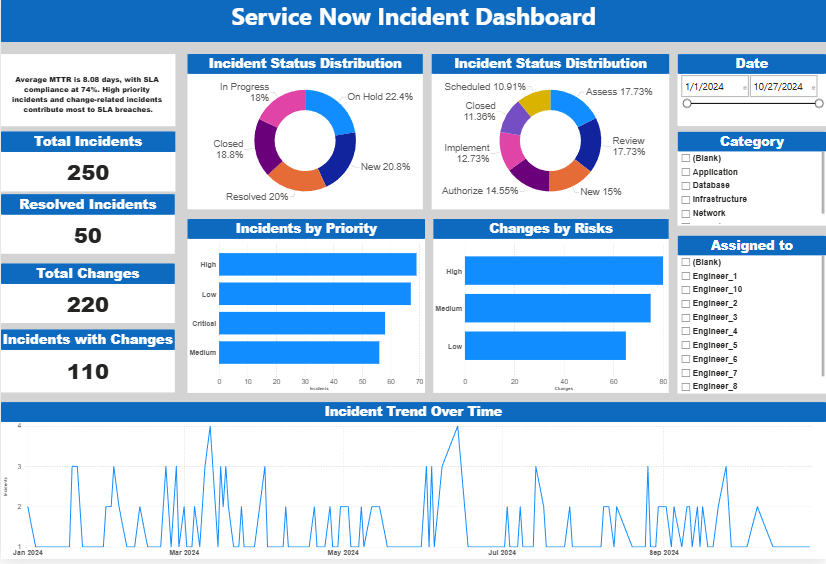

What the dashboard file says about the page in this screenshot:
{"tool":"powerbi","page":{"name":"Overview (ITSM Analytics)","canvas":[2500,1700],"ordinal":1},"visuals":[{"type":"card","title":"Total Incidents","fields":{"Values":["CountNonNull(servicenow_incidents_250rows.Incident_Number)"]},"box":[0,404.8,528.6,181],"z":0},{"type":"textbox","box":[0,0,2501.3,133.4],"z":1000},{"type":"card","title":"Open Incidents","fields":{"Values":["MeasureTable.Incident Narrative"]},"box":[0,171.4,528.6,219],"z":3000},{"type":"card","title":"Resolved Incidents","fields":{"Values":["servicenow_changes_220rows.Resolved Incidents"]},"box":[0,596.7,526.7,180],"z":4000},{"type":"card","title":"Total Changes","fields":{"Values":["servicenow_changes_220rows.Total Changes"]},"box":[0,803.3,526.7,180],"z":5000},{"type":"card","title":"Incidents with Changes","fields":{"Values":["servicenow_changes_220rows.Incidents with Changes"]},"box":[0,1006.7,526.7,190],"z":6000},{"type":"donutChart","title":"Incident Status Distribution","fields":{"Category":["servicenow_incidents_250rows.Status"],"Y":["CountNonNull(servicenow_incidents_250rows.Incident_Number)"]},"box":[566.7,170,713.3,470],"z":7000},{"type":"donutChart","title":"Incident Status Distribution","fields":{"Y":["CountNonNull(servicenow_changes_220rows.Change_Number)"],"Category":["servicenow_changes_220rows.Status"]},"box":[1303.3,170,720,470],"z":8000},{"type":"barChart","title":"Incidents by Priority","fields":{"Category":["servicenow_incidents_250rows.Priority"],"Y":["CountNonNull(servicenow_incidents_250rows.Incident_Number)"]},"box":[566.7,670,720,526.7],"z":9000},{"type":"barChart","title":"Changes by Risks","fields":{"Category":["servicenow_changes_220rows.Risk"],"Y":["CountNonNull(servicenow_changes_220rows.Change_Number)"]},"box":[1310,670,713.3,526.7],"z":10000},{"type":"lineChart","title":"Incident Trend Over Time","fields":{"Y":["CountNonNull(servicenow_incidents_250rows.Incident_Number)"],"Category":["servicenow_incidents_250rows.Opened_At.Variation.Date Hierarchy.Year","servicenow_incidents_250rows.Opened_At.Variation.Date Hierarchy.Month","servicenow_incidents_250rows.Opened_At.Variation.Date Hierarchy.Day"]},"box":[0,1223.3,2500,476.7],"z":11000},{"type":"slicer","title":"Date","fields":{"Values":["servicenow_incidents_250rows.Opened_At"]},"box":[2050,170,450,216.7],"z":12000},{"type":"slicer","title":"Category","fields":{"Values":["servicenow_incidents_250rows.Category"]},"box":[2050,406.7,450,283.3],"z":13000},{"type":"slicer","title":"Assigned to","fields":{"Values":["servicenow_incidents_250rows.Assigned_To"]},"box":[2050,720,450,476.7],"z":14000}]}

Visuals, with their boxes in screenshot pixels (x1, y1, x2, y2), scaled from the page's 2500x1700 canvas onto the 826x564 screenshot:
"Total Incidents" card: (0,134,175,194)
textbox: (0,0,825,44)
"Open Incidents" card: (0,57,175,130)
"Resolved Incidents" card: (0,198,174,258)
"Total Changes" card: (0,267,174,326)
"Incidents with Changes" card: (0,334,174,397)
"Incident Status Distribution" donutChart: (187,56,423,212)
"Incident Status Distribution" donutChart: (431,56,668,212)
"Incidents by Priority" barChart: (187,222,425,397)
"Changes by Risks" barChart: (433,222,668,397)
"Incident Trend Over Time" lineChart: (0,406,825,563)
"Date" slicer: (677,56,825,128)
"Category" slicer: (677,135,825,229)
"Assigned to" slicer: (677,239,825,397)
